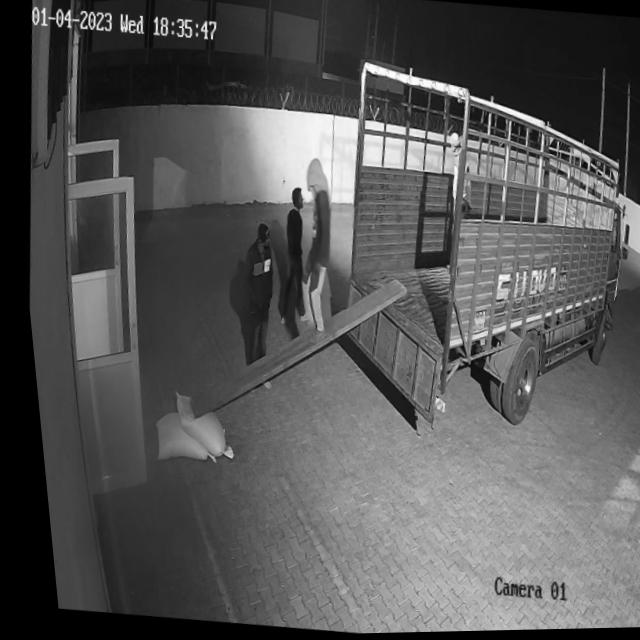sack: (160, 390, 230, 462), (141, 410, 212, 465)
